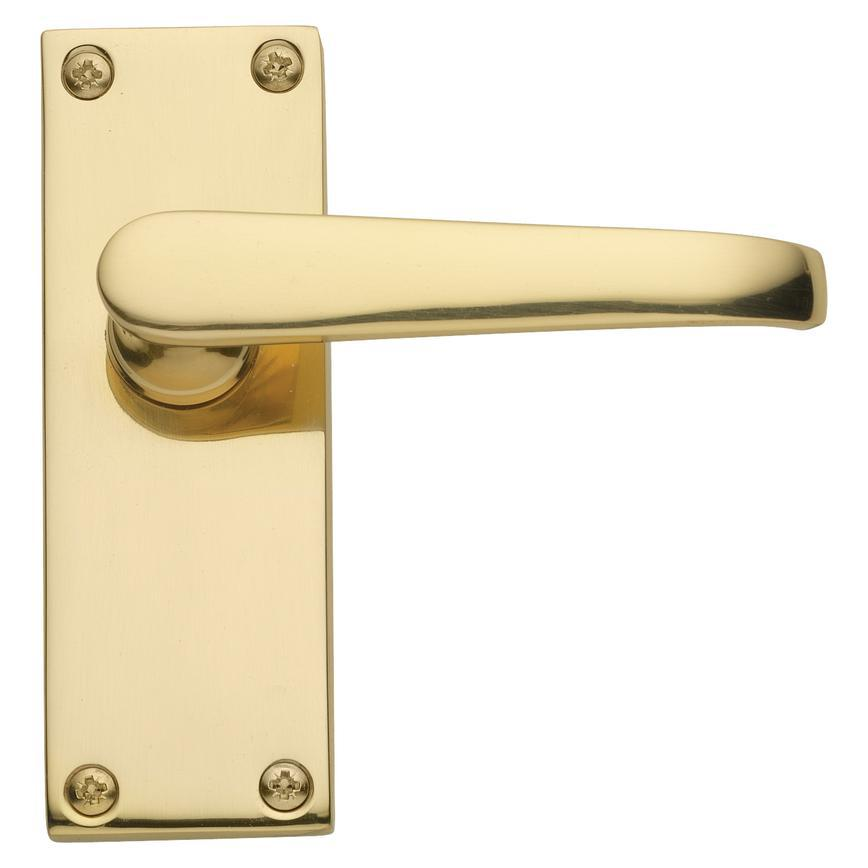doorhandle: (87, 154, 841, 412)
